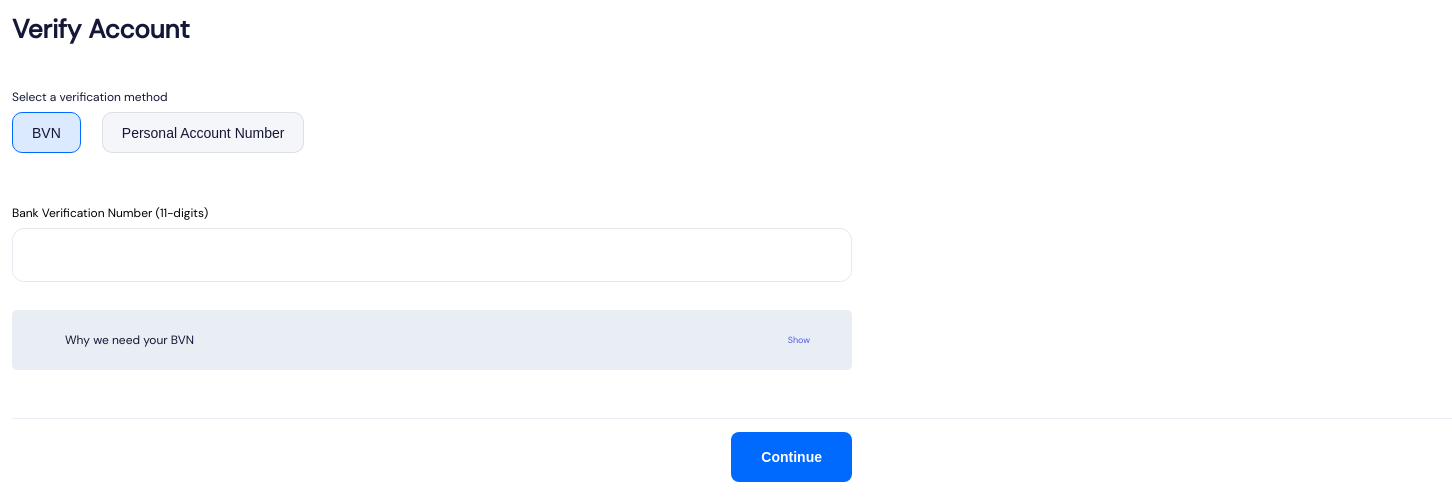
Test: Steps › Step One › clicking the Personal Account Number button renders the personal option
The image size is (1452, 499).
What coordinates should you click on to do the following:
click the button "Personal Account Number"
I would click on:
 (203, 132)
Its box is [102,112,304,153].
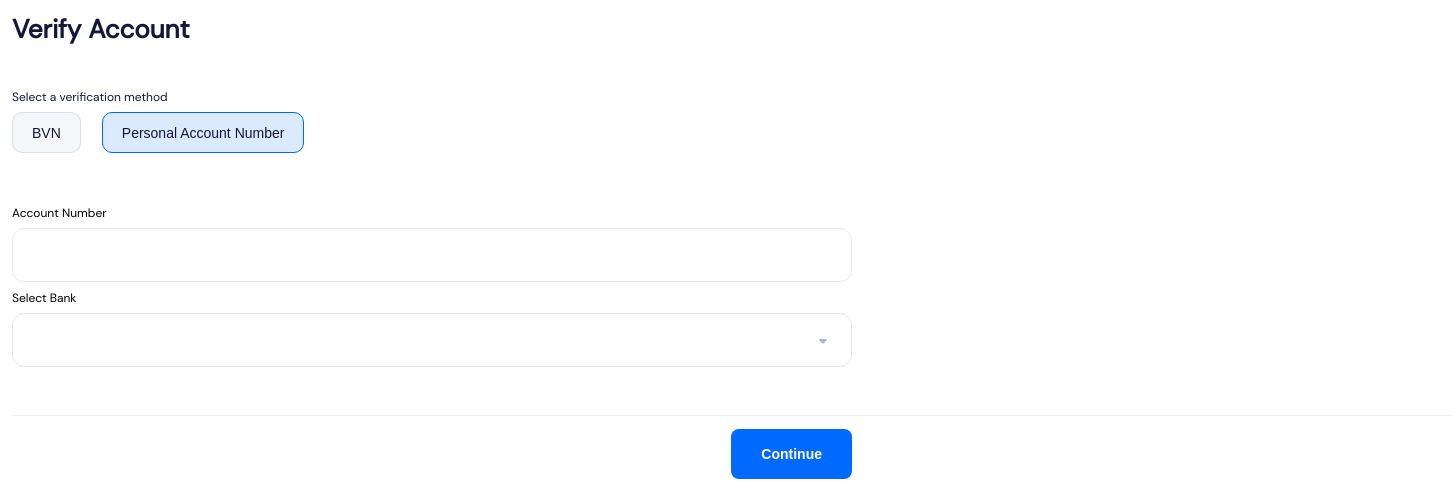
Result: the element with test id "personal-option" is shown at [12,205,852,367]
